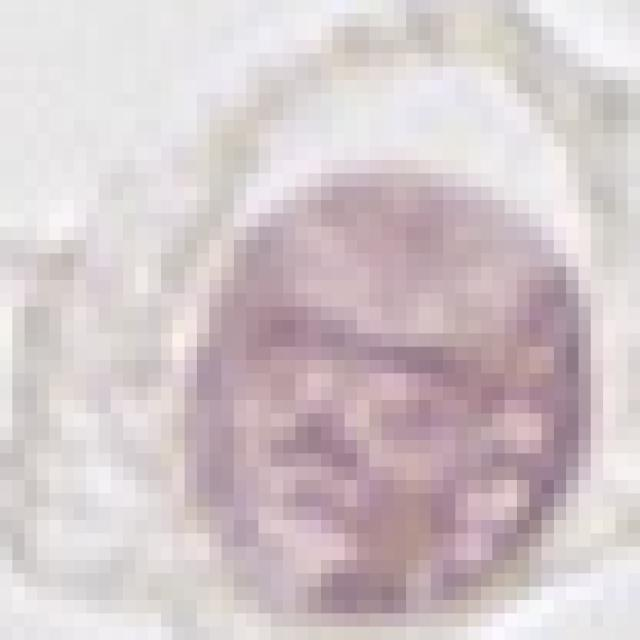cytoplasm: (0, 4, 628, 627)
nucleus: (111, 123, 640, 640)
